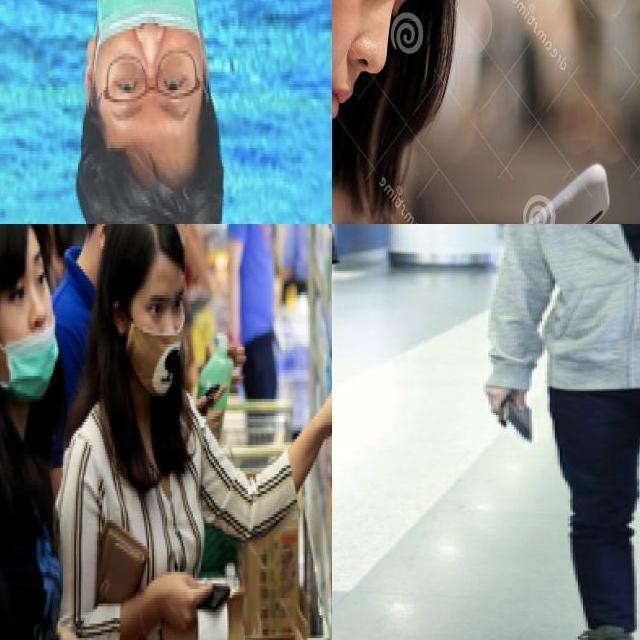hairnet: (103, 0, 192, 73), (4, 307, 55, 395)
